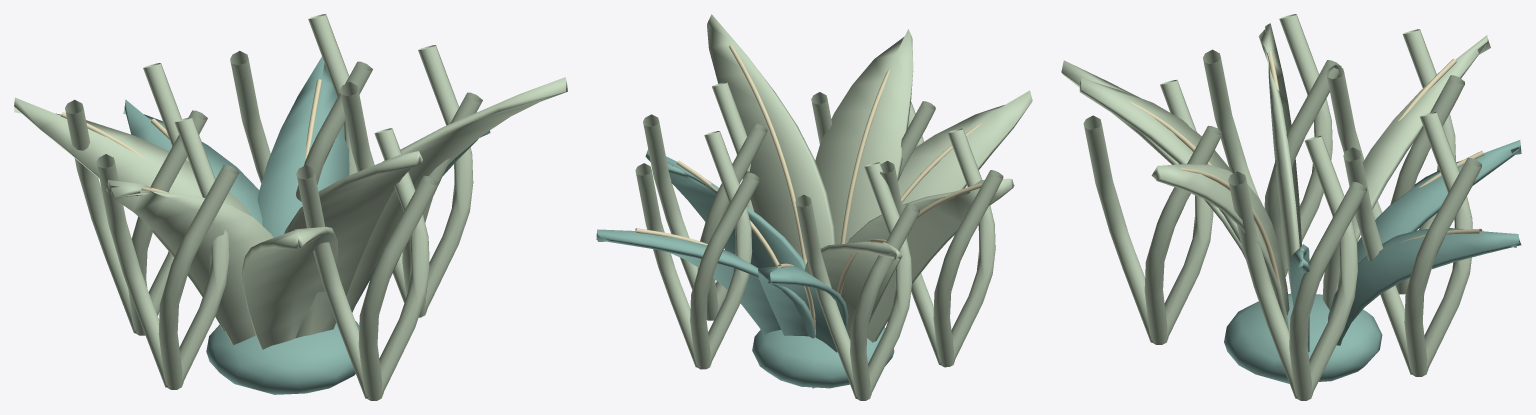
Rendered from bio_mist_leaf_04_far.glb.
3 renders of one model, left to right at view 1: azimuth 30°, elevation 25°; view 2: azimuth 150°, elevation 25°; view 3: azimuth 270°, elevation 25°, orthographic. The views are drawn at different scales.
Parts seen in each view (by area): view 1: Spiral filament.012, Spiral filament.006, Cupped condensate leaf.004, Cupped condensate leaf.007, Spiral filament.003, Spiral filament, Root rosette, Cupped condensate leaf.002, Cupped condensate leaf.003, Cupped condensate leaf.005, Spiral filament.009, Cupped condensate leaf.001 (+1 smaller); view 2: Cupped condensate leaf.002, Cupped condensate leaf.005, Spiral filament.003, Spiral filament.009, Spiral filament.012, Spiral filament, Cupped condensate leaf.007, Cupped condensate leaf.004, Cupped condensate leaf.003, Root rosette, Cupped condensate leaf.006, Cupped condensate leaf (+6 smaller); view 3: Spiral filament, Spiral filament.009, Spiral filament.006, Spiral filament.012, Root rosette, Spiral filament.003, Cupped condensate leaf.003, Cupped condensate leaf.001, Cupped condensate leaf.005, Cupped condensate leaf.004, Cupped condensate leaf.002, Cupped condensate leaf.006 (+3 smaller).
Part boxes in pixels (box(x1,y1,x2,y2)): Spiral filament.012: box(96, 117, 239, 389); Spiral filament.006: box(296, 128, 439, 400); Cupped condensate leaf.004: box(106, 180, 273, 345); Cupped condensate leaf.007: box(242, 226, 338, 349); Spiral filament.003: box(65, 63, 207, 335); Spiral filament: box(340, 45, 482, 317); Root rosette: box(206, 321, 359, 394); Cupped condensate leaf.002: box(284, 151, 422, 338); Cupped condensate leaf.003: box(257, 57, 349, 237); Cupped condensate leaf.005: box(346, 77, 567, 312); Spiral filament.009: box(230, 14, 372, 201); Cupped condensate leaf.001: box(14, 97, 250, 331); Cupped condensate leaf.002: box(815, 29, 913, 244); Cupped condensate leaf.005: box(707, 14, 835, 257); Spiral filament.003: box(795, 162, 919, 400); Spiral filament.009: box(635, 131, 759, 369); Spiral filament.012: box(880, 128, 1003, 367); Spiral filament: box(643, 82, 767, 320); Cupped condensate leaf.007: box(898, 90, 1032, 204); Cupped condensate leaf.004: box(847, 178, 1014, 342); Cupped condensate leaf.003: box(596, 229, 814, 338); Root rosette: box(752, 327, 894, 388); Cupped condensate leaf.006: box(758, 265, 848, 388); Cupped condensate leaf: box(645, 149, 805, 270); Spiral filament: box(1228, 135, 1366, 400); Spiral filament.009: box(1343, 111, 1481, 376); Spiral filament.006: box(1083, 80, 1222, 344); Spiral filament.012: box(1203, 14, 1341, 276); Root rosette: box(1224, 293, 1382, 383); Spiral filament.003: box(1326, 29, 1464, 294); Cupped condensate leaf.003: box(1328, 228, 1521, 345); Cupped condensate leaf.001: box(1322, 35, 1490, 310); Cupped condensate leaf.005: box(1151, 164, 1289, 331); Cupped condensate leaf.004: box(1258, 23, 1301, 296); Cupped condensate leaf.002: box(1079, 78, 1240, 242); Cupped condensate leaf.006: box(1357, 140, 1521, 263).
Size of the model in its own units: 1.72 by 1.25 by 1.74.
